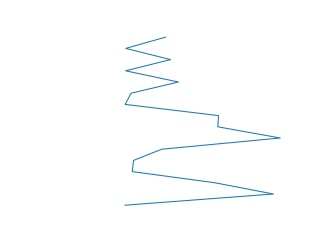majorRiverBedLagDeposit: (120, 36, 284, 211)
